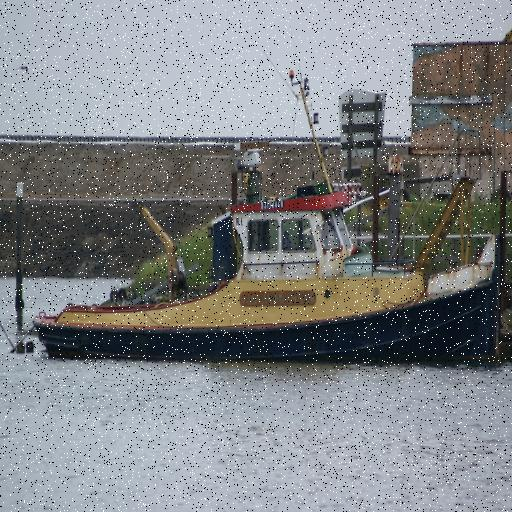tugboat: (30, 162, 505, 386)
